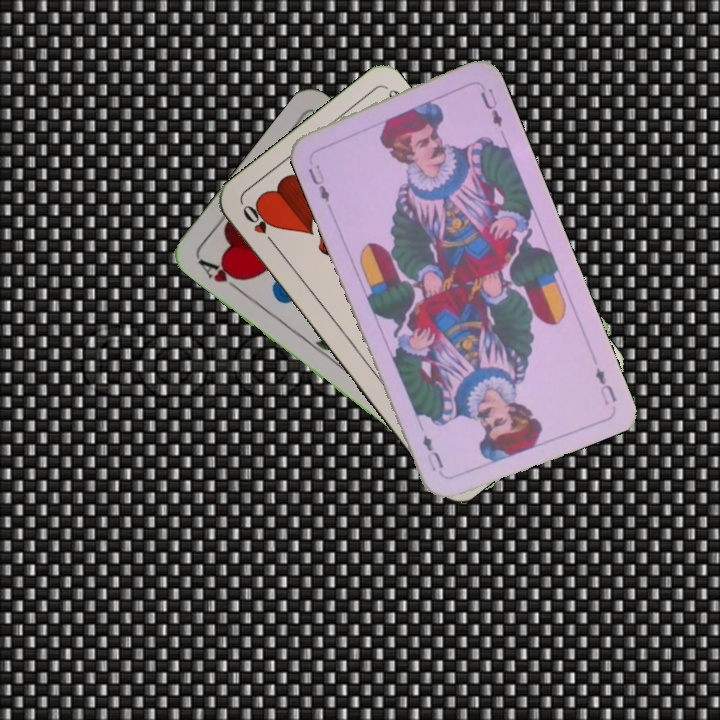EU: (304, 160, 332, 205), (591, 364, 619, 408)
HA: (194, 255, 246, 296)
HO: (238, 200, 280, 250)
